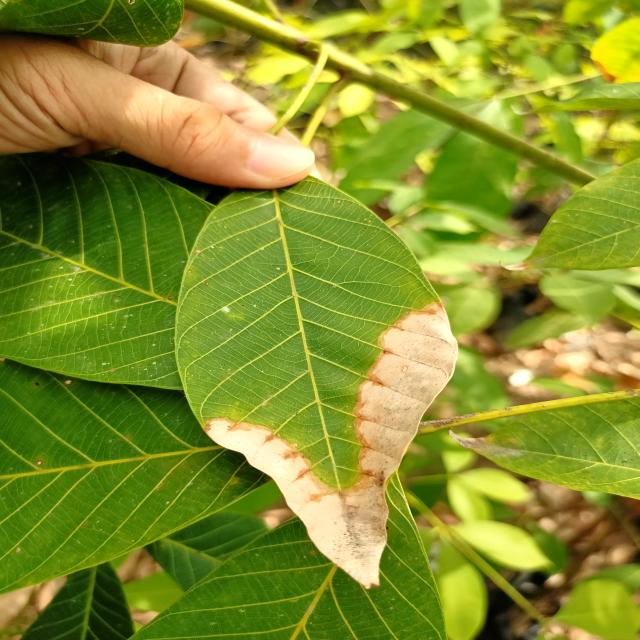Colletotrichum: (402, 365, 408, 372), (168, 296, 173, 300), (205, 282, 209, 286), (188, 271, 192, 273)
Leaf-Blight: (205, 302, 458, 590)
